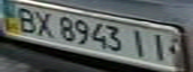3: (103, 24, 127, 55)
4: (87, 21, 109, 51)
8: (54, 14, 78, 43)
9: (69, 17, 93, 47)
B: (9, 4, 42, 34)
I: (145, 30, 175, 65), (124, 27, 151, 61)
X: (30, 9, 57, 39)
